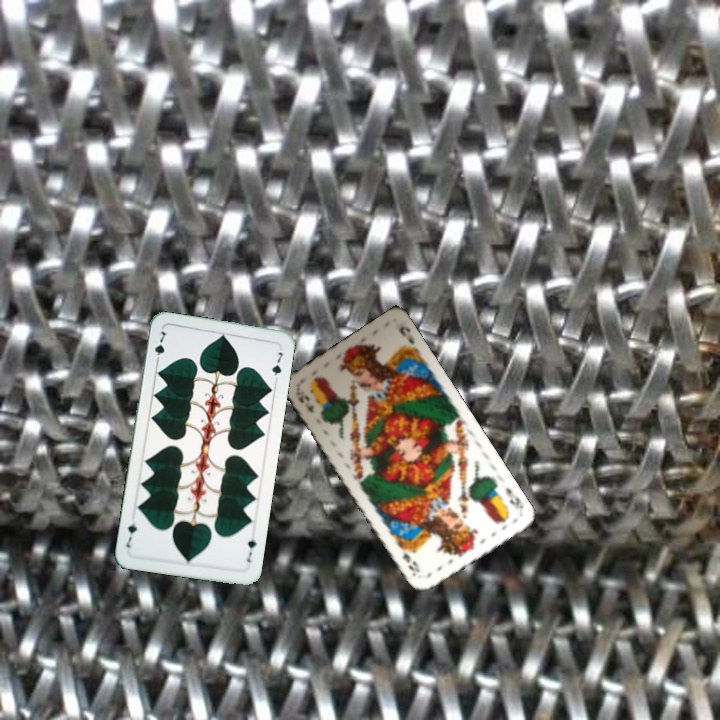EK: (501, 484, 526, 514), (294, 388, 317, 416)
G7: (151, 327, 169, 366), (243, 530, 259, 565)
